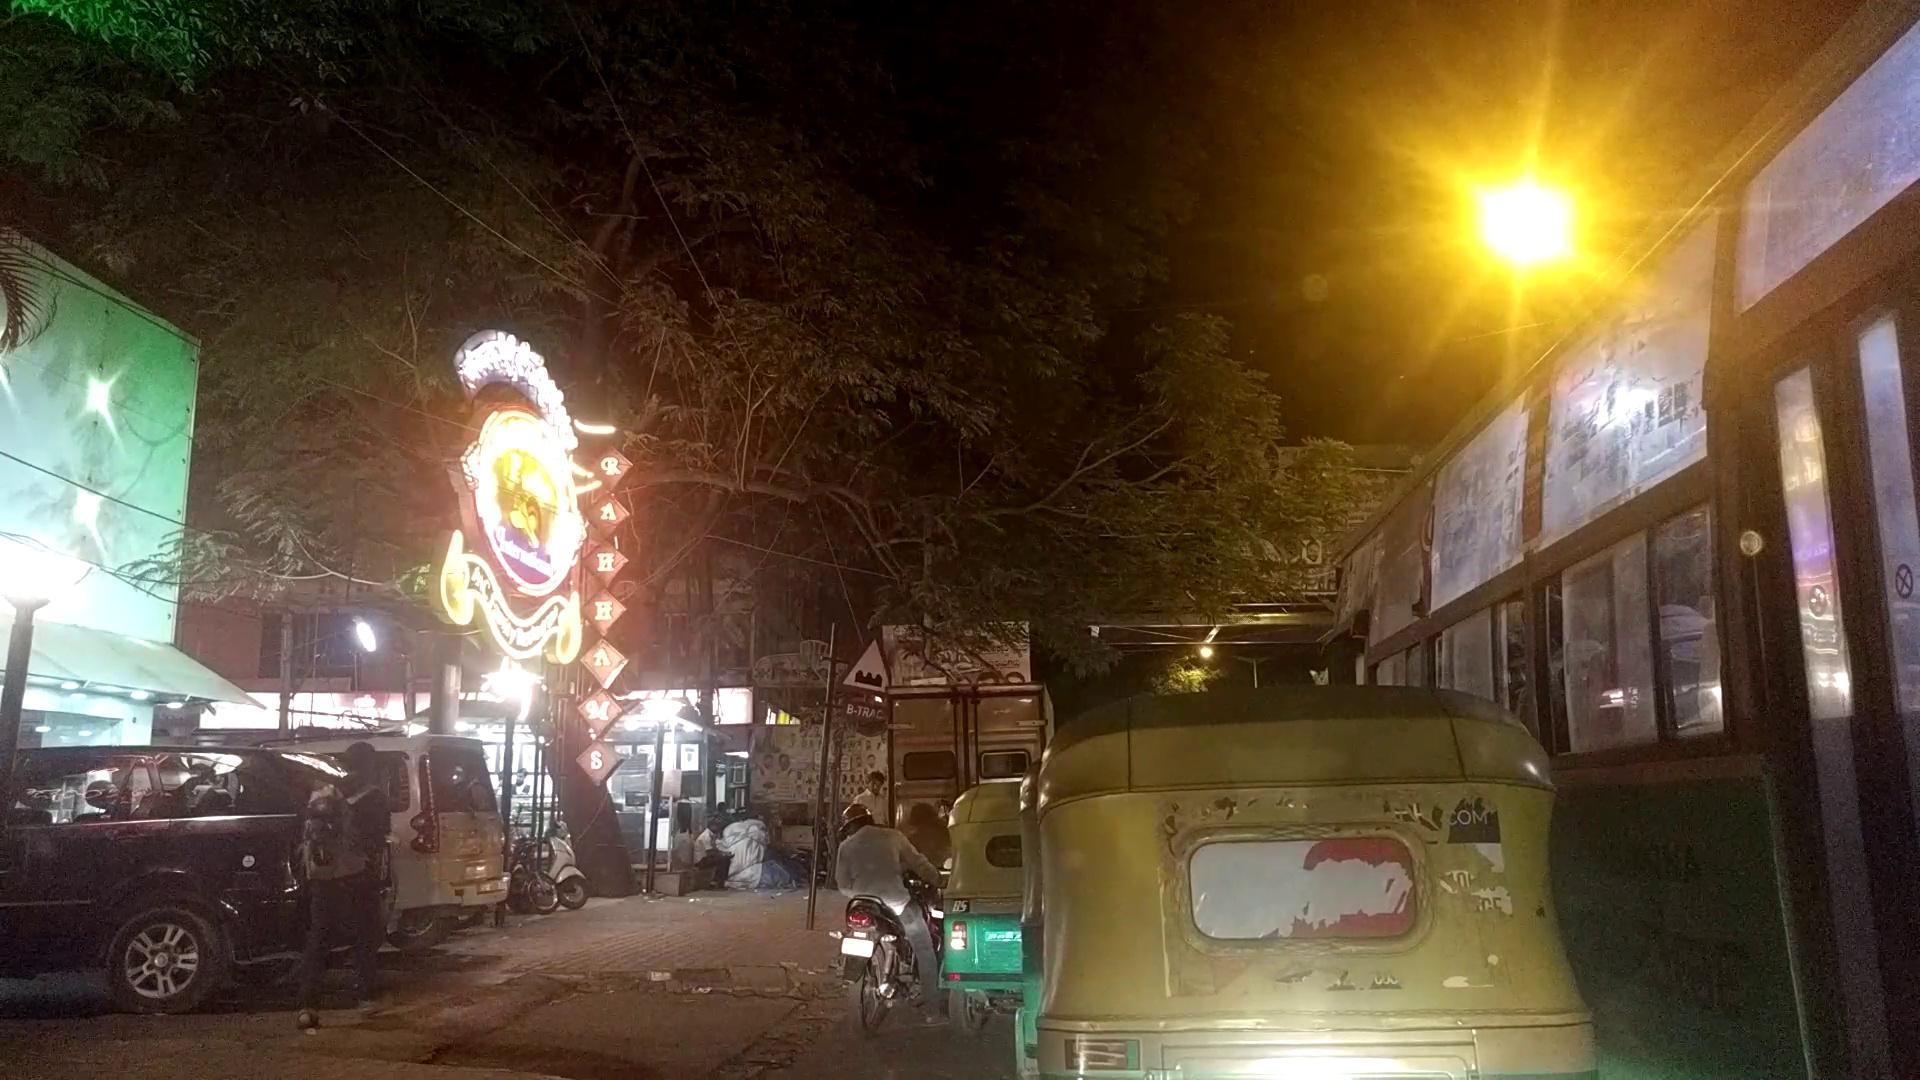on: (80, 22, 1920, 988)
